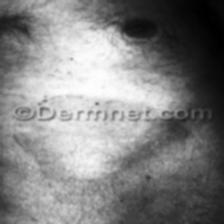Toxin: (6, 89, 202, 224)
